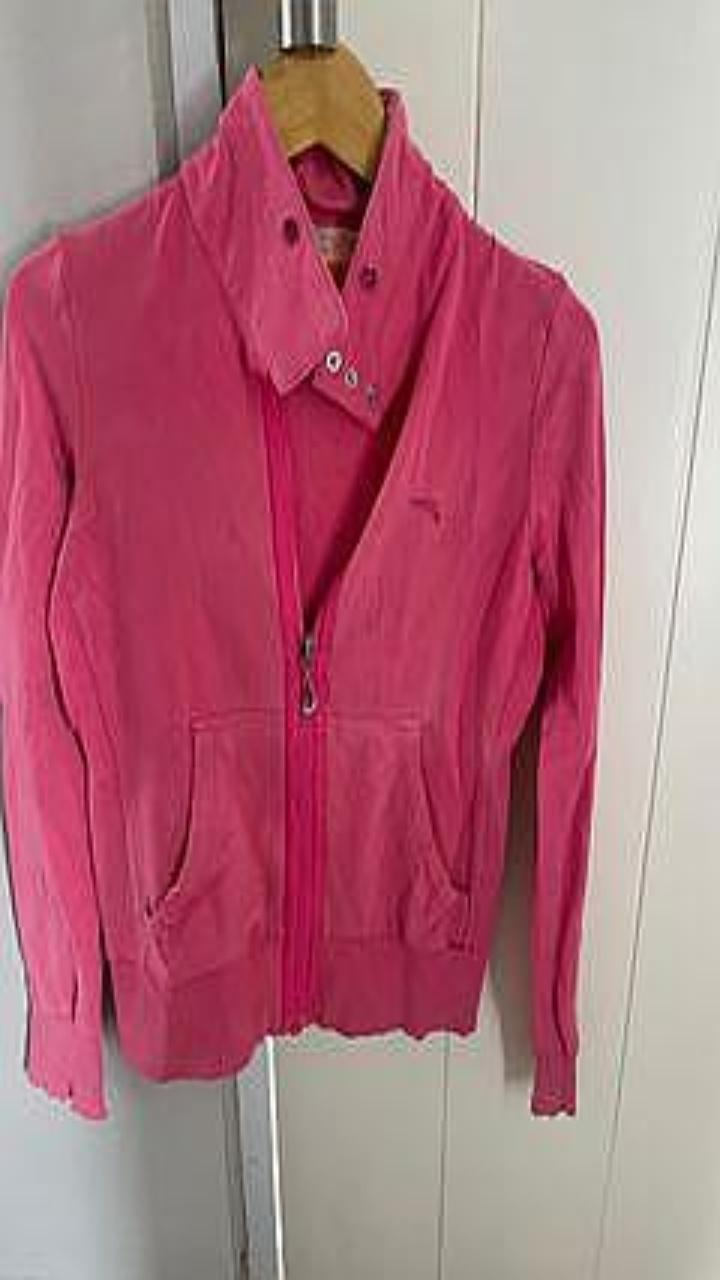Sports_Jacket: (0, 63, 604, 1117)
